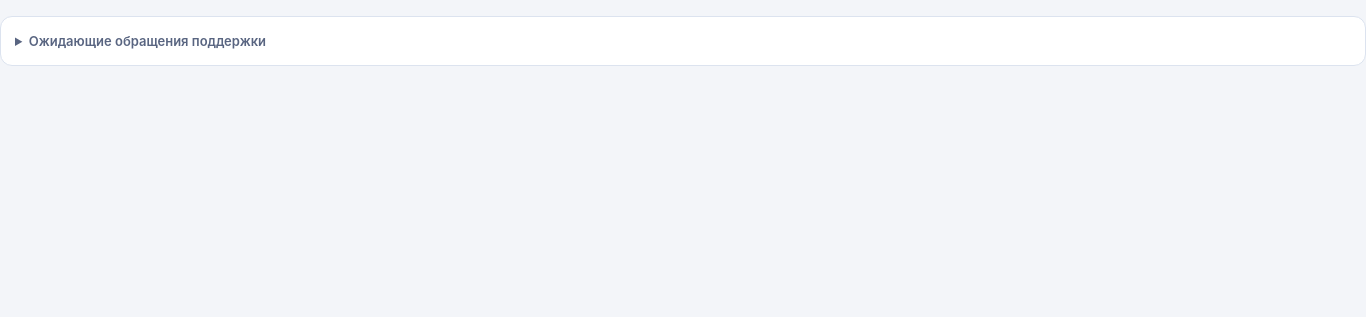
support and ticket chat › recovers pending support independently of the last question after reopening
The width and height of the screenshot is (1366, 317).
Click the heading "Ожидающие обращения поддержки" at (147, 41), box [29,33,266,49]
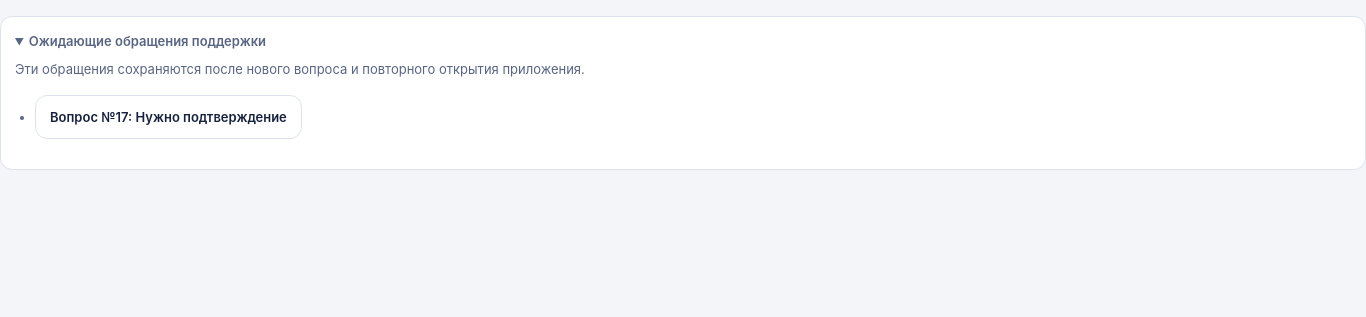
Click the button "Вопрос №17: Нужно подтверждение" at (168, 117), box [35,95,302,139]
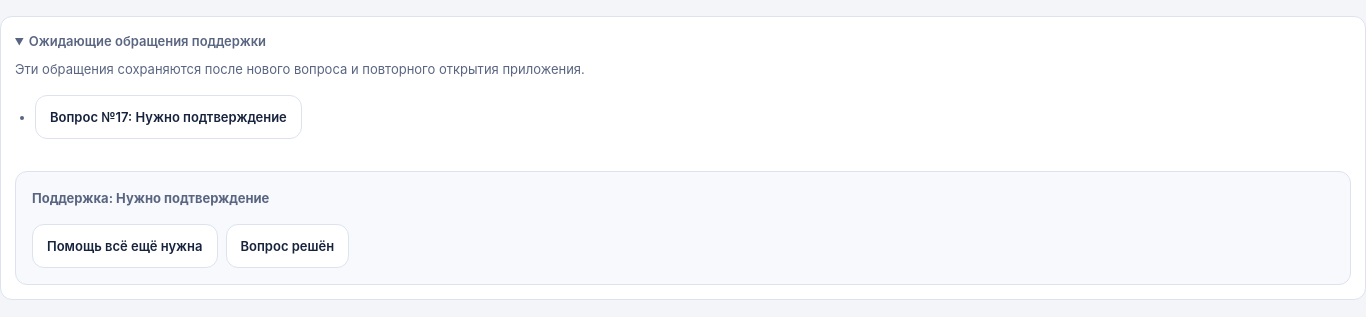
Result: the button "Помощь всё ещё нужна" is shown at [32,224,218,268]
